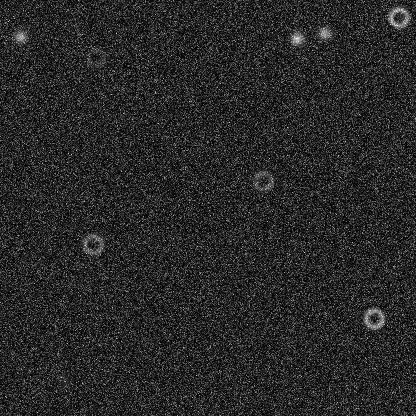Ring: (250, 168, 274, 192), (83, 45, 107, 69), (386, 5, 410, 29), (361, 306, 385, 330), (80, 232, 104, 256)
Spot: (316, 25, 332, 41), (12, 28, 28, 44), (288, 30, 304, 46), (56, 371, 72, 387)
